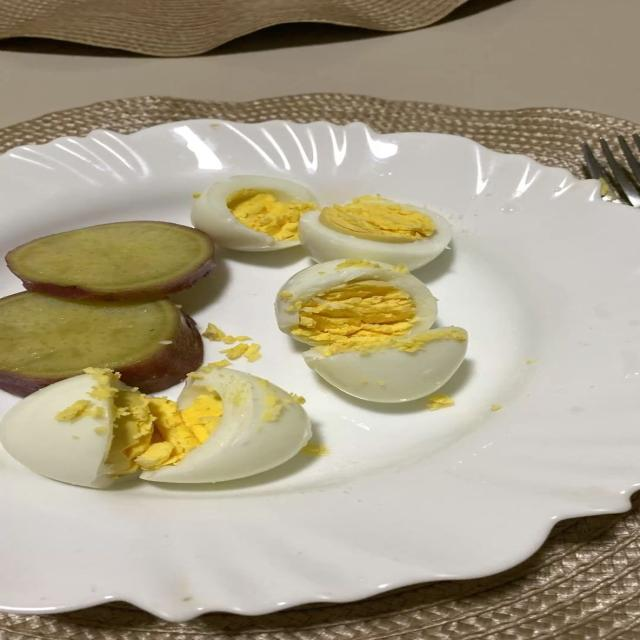egg boiled: (0, 366, 310, 488), (276, 260, 466, 402), (140, 367, 311, 482), (275, 259, 437, 344), (0, 374, 114, 488), (303, 327, 466, 403), (300, 197, 452, 270), (192, 176, 318, 251)
